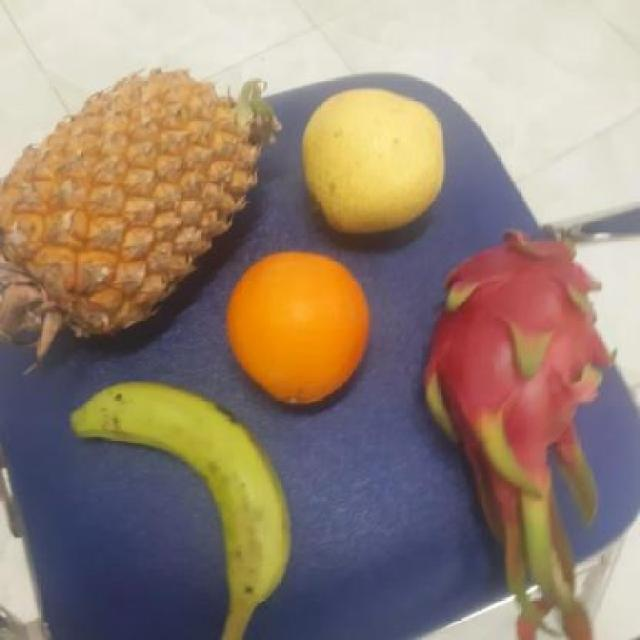banana: (69, 375, 296, 593)
dragon fruit: (426, 232, 614, 482)
guava: (228, 252, 374, 406)
oren: (226, 250, 374, 405)
pear: (298, 88, 452, 234)
pineapple: (0, 66, 271, 337)
